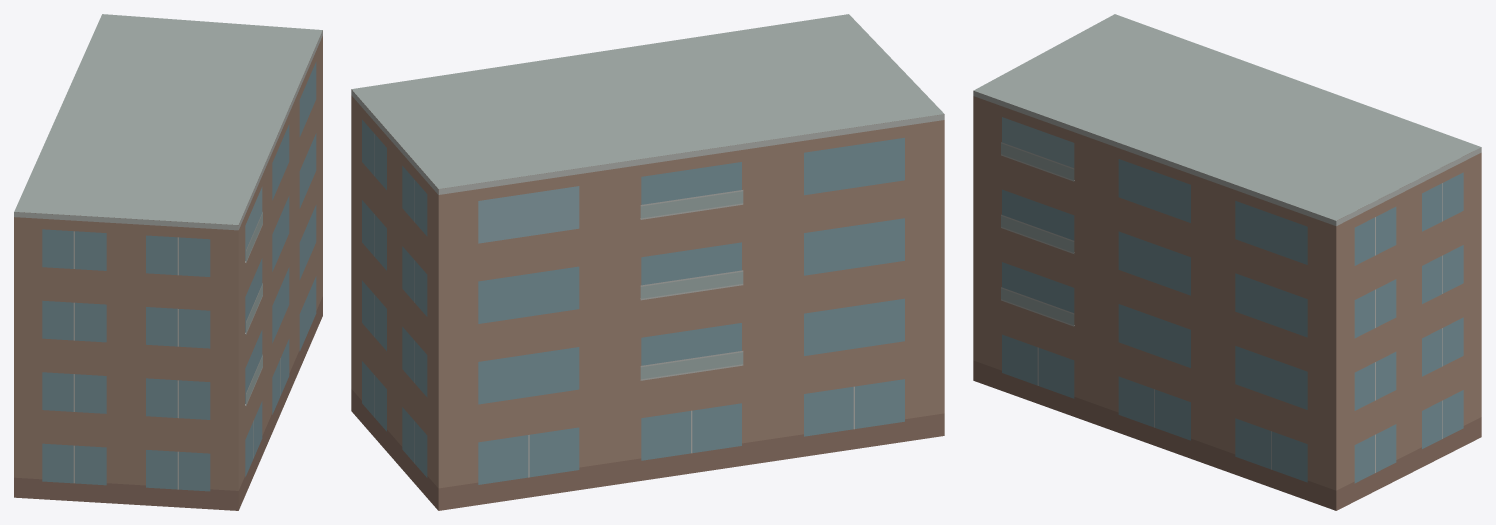
File: survey-upis-32889438.glb
3 views of the same model, side by side, from view 1: azimuth 30°, elevation 25°; view 2: azimuth 150°, elevation 25°; view 3: azimuth 270°, elevation 25° (orthographic). The views are drawn at different scales.
Parts seen in each view (by area): view 1: survey-upis-32889438.tmp; view 2: survey-upis-32889438.tmp; view 3: survey-upis-32889438.tmp.
Part boxes in pixels (<box>): survey-upis-32889438.tmp: <box>14,14,322,510</box>; survey-upis-32889438.tmp: <box>351,14,944,510</box>; survey-upis-32889438.tmp: <box>973,14,1481,510</box>.
Size of the model in its own units: 20.16 by 13.17 by 20.92.
